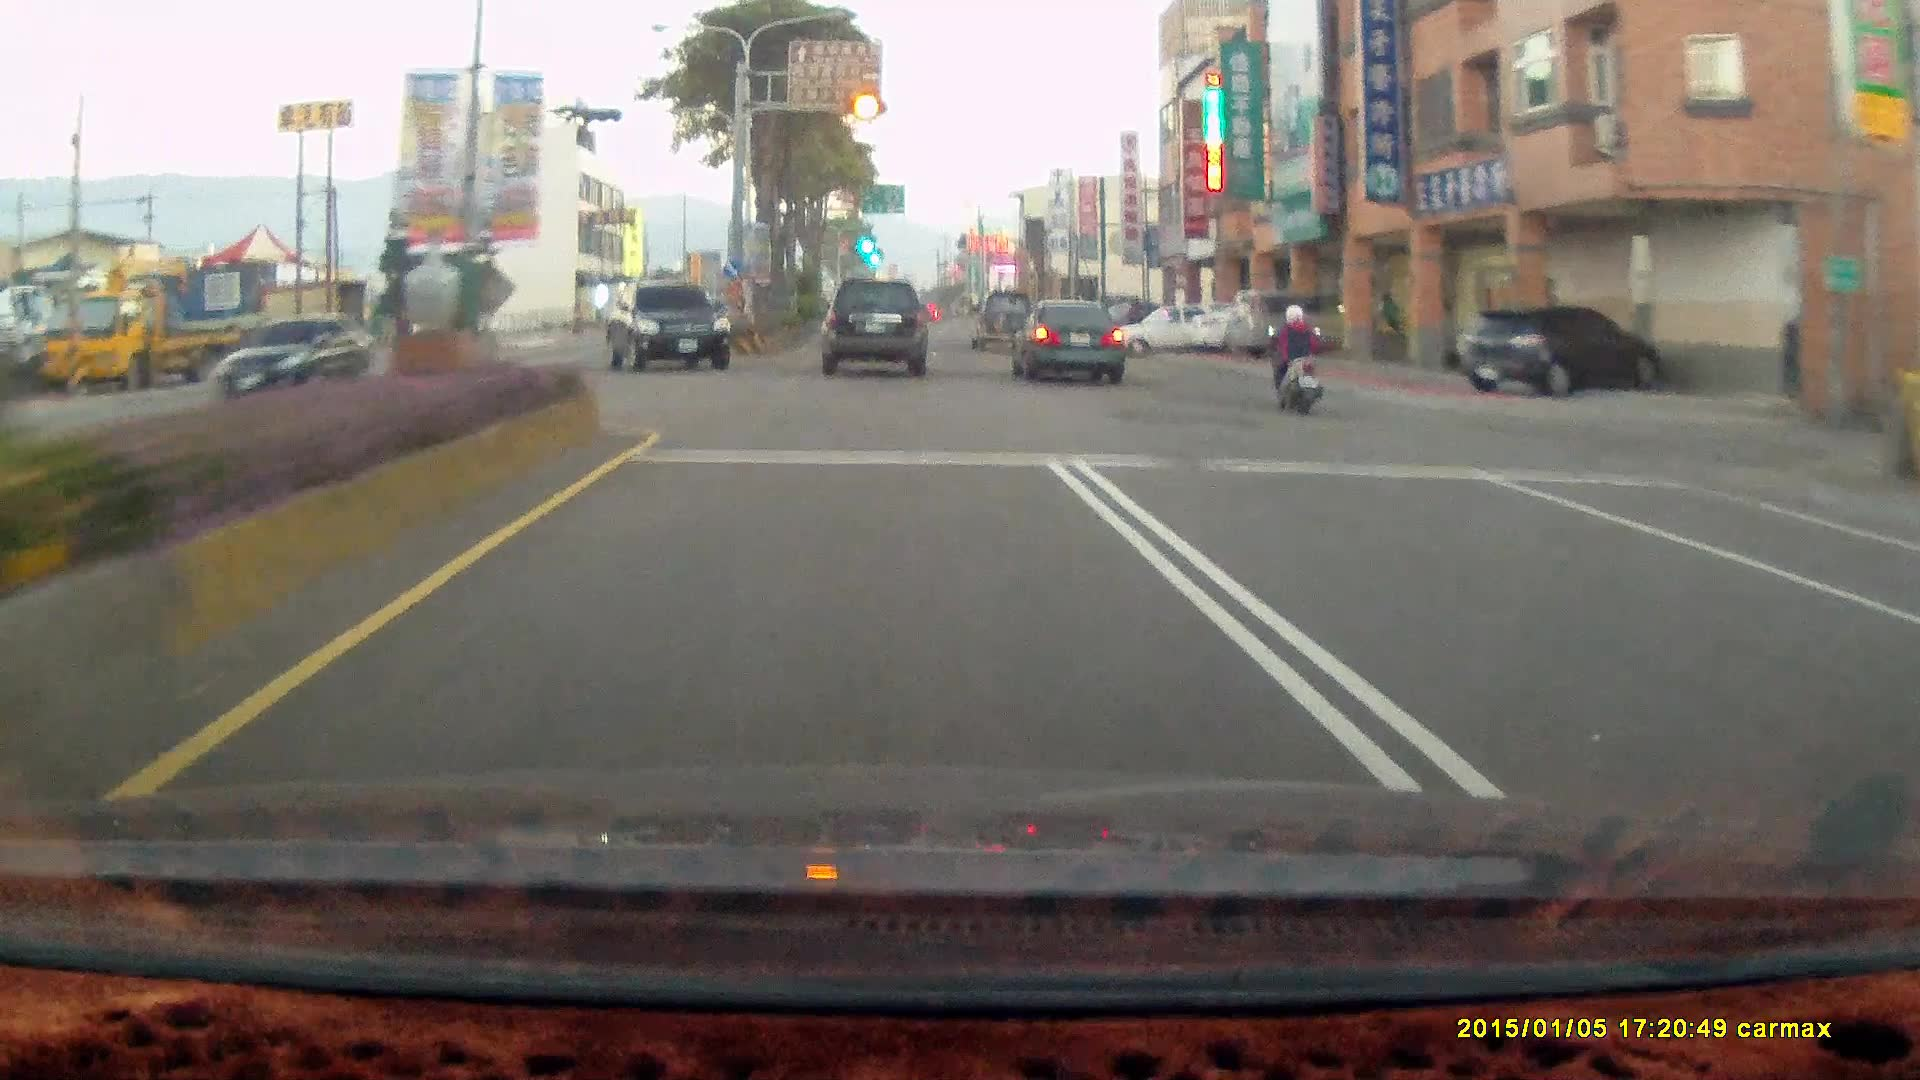pedestrian: (1377, 294, 1402, 362), (391, 304, 411, 358)
rider: (1255, 292, 1337, 425), (1269, 299, 1329, 412)
vehicle: (40, 283, 249, 396), (1462, 305, 1672, 397), (1458, 303, 1662, 397), (206, 314, 382, 403), (211, 312, 376, 401), (604, 281, 729, 370), (612, 281, 737, 370), (823, 280, 931, 379), (819, 278, 927, 377), (1008, 300, 1124, 385), (1228, 287, 1365, 359), (1223, 287, 1352, 362), (1009, 302, 1128, 384), (1123, 301, 1241, 360), (1114, 302, 1238, 356), (967, 289, 1036, 351)
